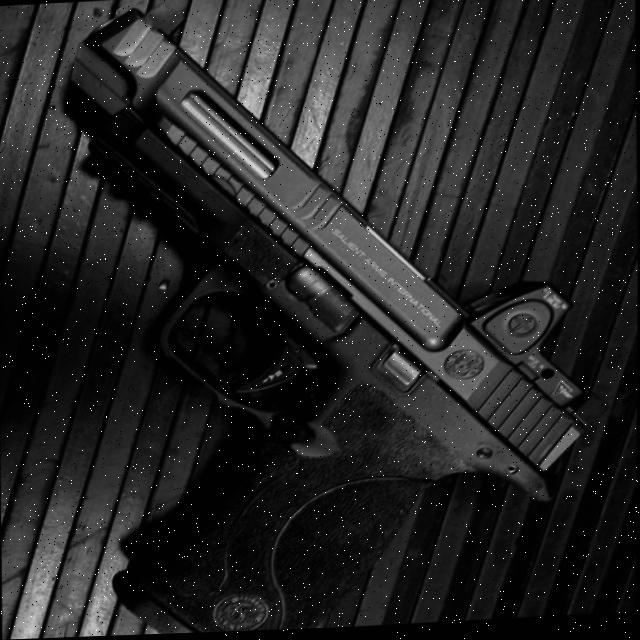pistol: (51, 0, 599, 638)
